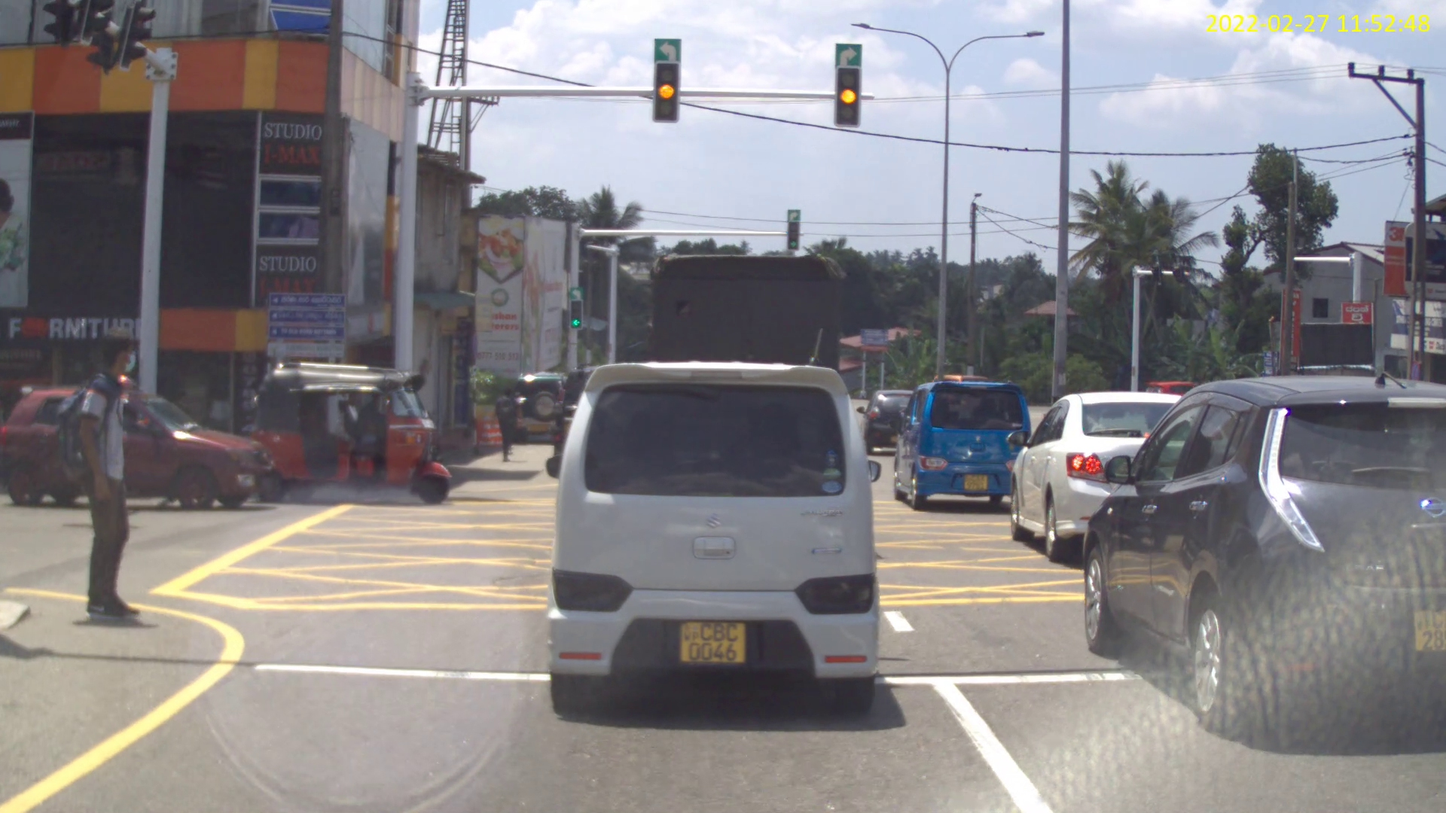Green: (570, 298, 583, 329), (788, 221, 800, 249)
Yellow: (651, 61, 681, 123), (834, 65, 862, 129)
